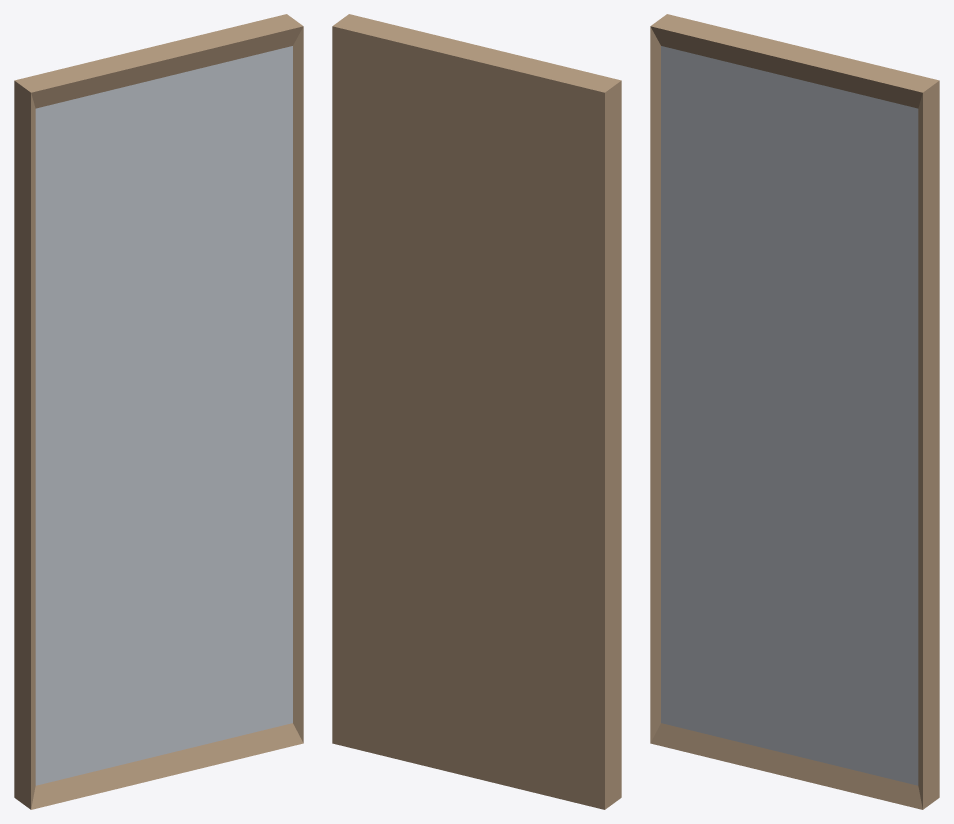
File: Accesories_Mirror.glb
The picture shows the model from 3 angles, left to right: view 1: azimuth 30°, elevation 25°; view 2: azimuth 150°, elevation 25°; view 3: azimuth 330°, elevation 25°; orthographic projection.
Parts seen in each view (by area): view 1: Accesories_Mirror; view 2: Accesories_Mirror; view 3: Accesories_Mirror.
Boxes of the visible parts, x1,y1,x2,y2 form: Accesories_Mirror: [14, 14, 303, 809]; Accesories_Mirror: [332, 14, 621, 809]; Accesories_Mirror: [650, 14, 939, 809].
Size of the model in its own units: 0.5642 by 1.42 by 0.0601.
Materials: 1 (1 with a texture image).
